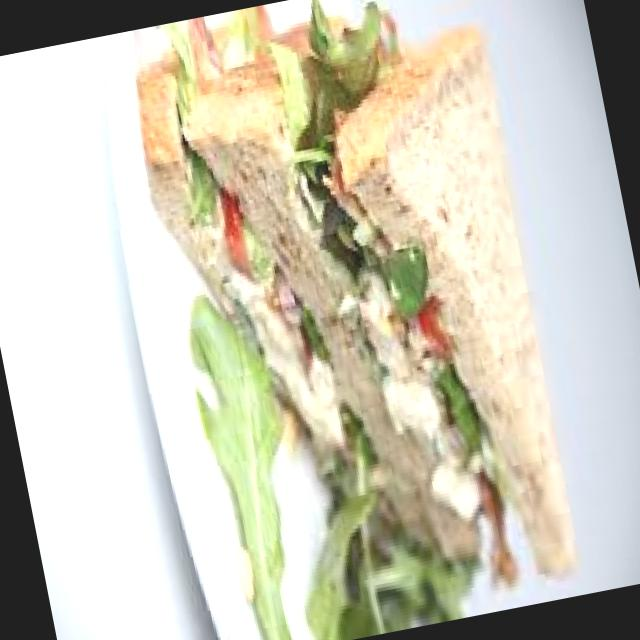organic: (147, 0, 596, 640)
